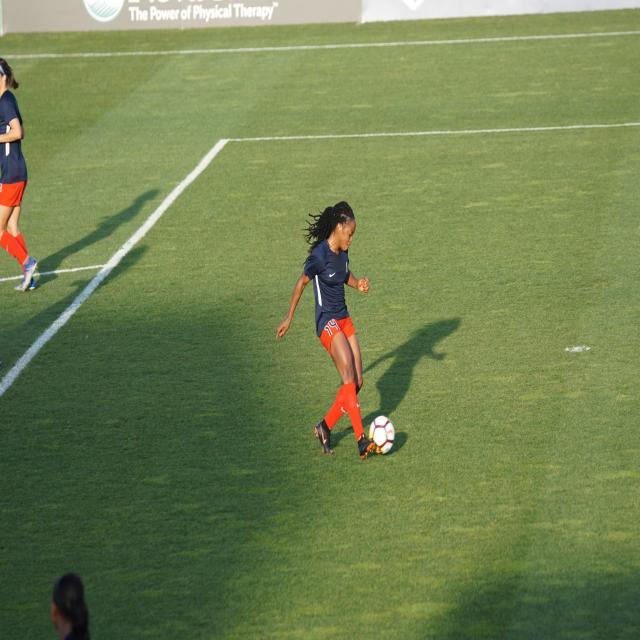running: (272, 197, 378, 458), (0, 53, 43, 294)
